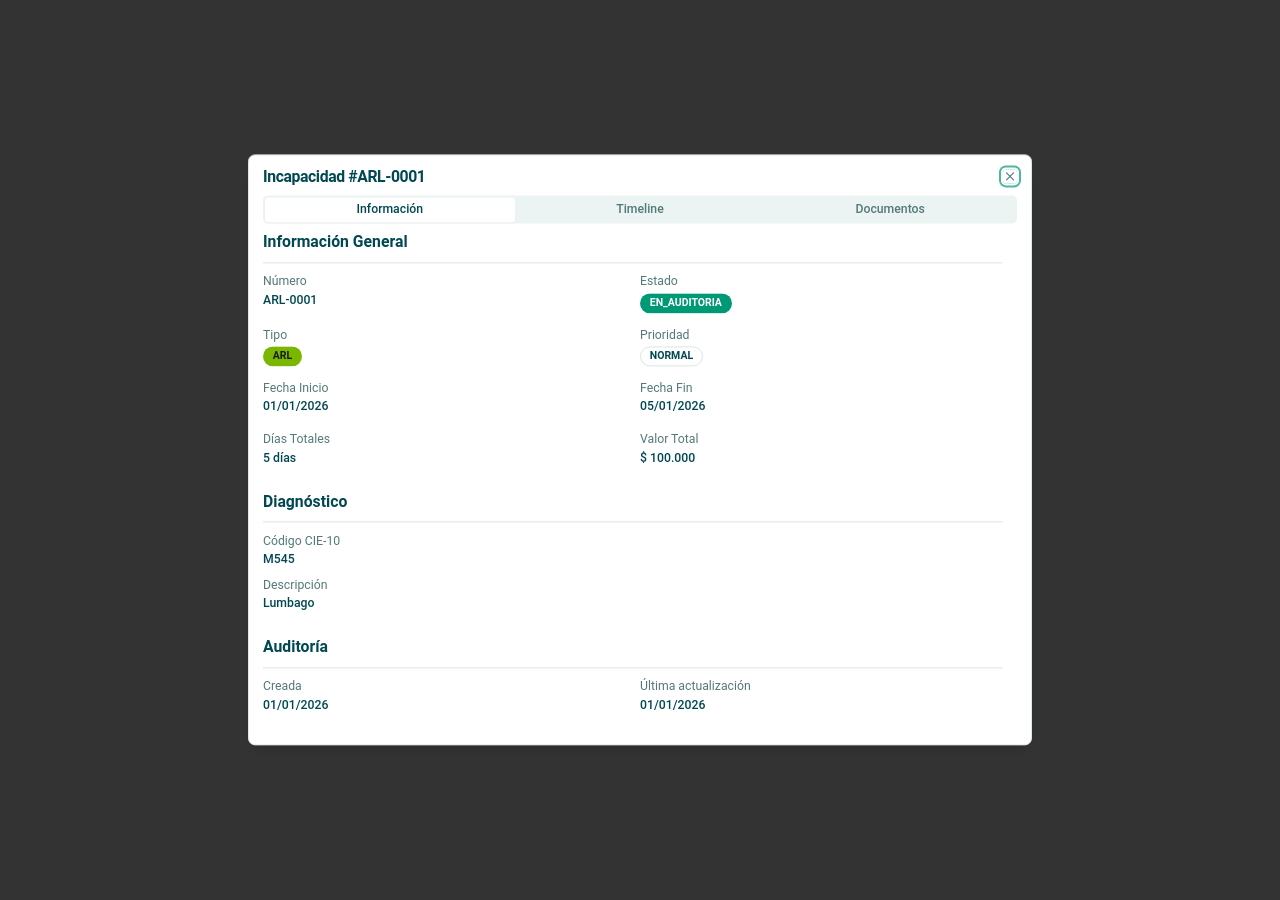
Test: DetalleModal — tab Timeline › debe mostrar el nombre del responsable con su etiqueta cuando el cambio tiene usuario
What coordinates should you click on to do the following:
click the tab "Timeline"
I would click on:
 (640, 210)
Its box is [515,197,765,222].
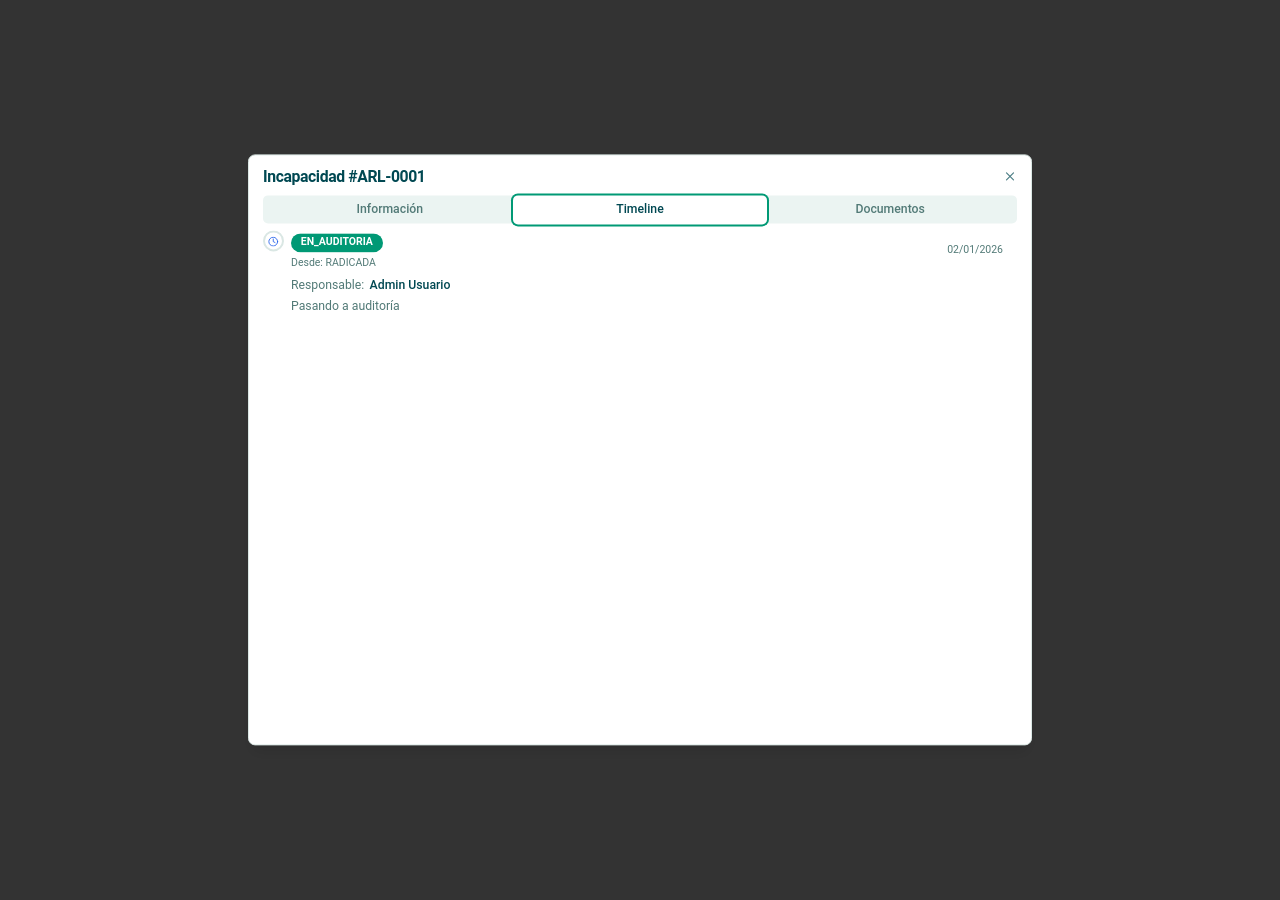
Now the text "Responsable:" is shown, box [291,277,364,294]
Now the text "Admin Usuario" is shown, box [370,277,450,294]
